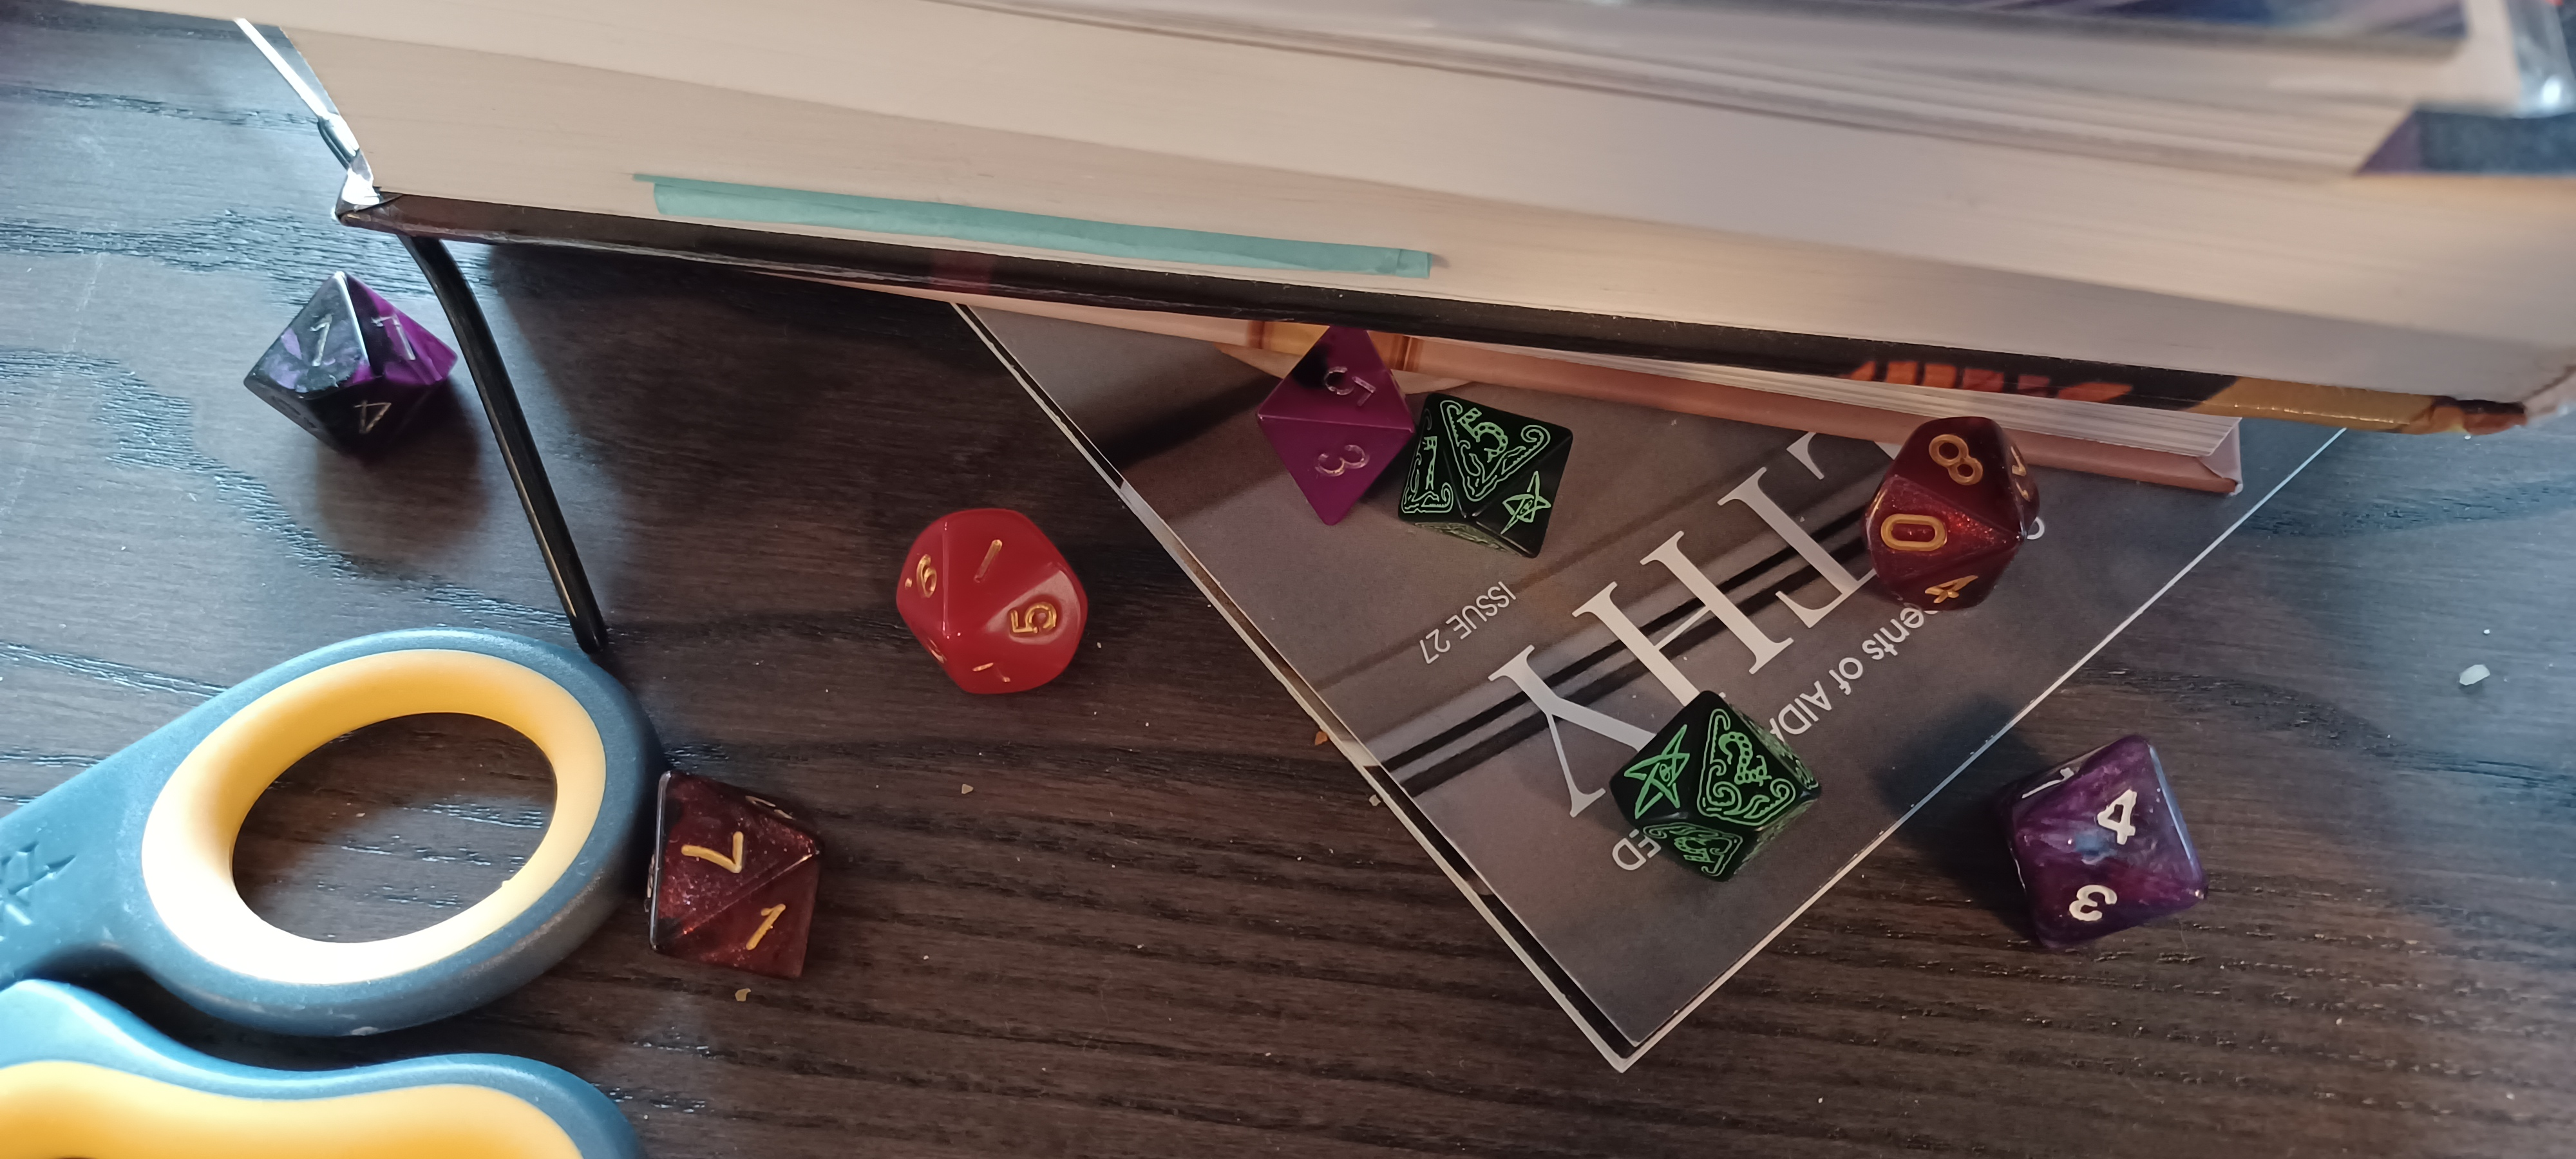eight: (1805, 369, 2085, 648)
five: (1194, 281, 1446, 552), (1393, 355, 1580, 589)
four: (1940, 694, 2251, 987)
one: (204, 246, 498, 499), (836, 468, 1114, 714)
seven: (563, 731, 902, 1049)
two: (1557, 650, 1874, 947)
